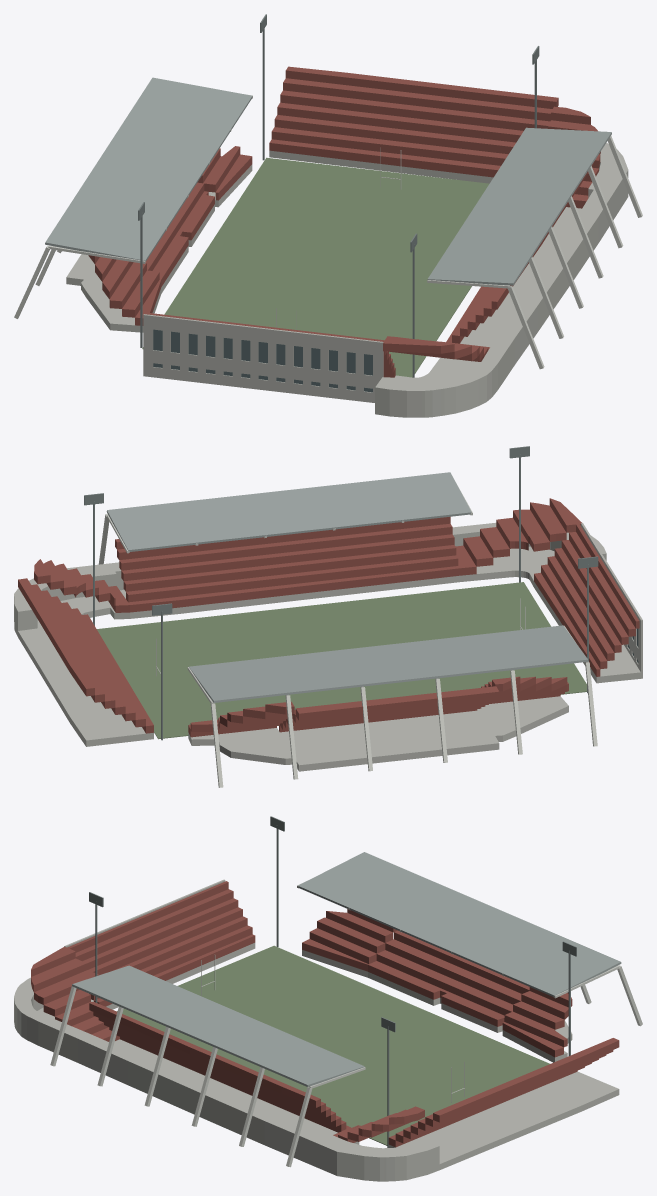
File: stade-mayol-toulon-far.glb
The picture shows the model from 3 angles, top to bottom: view 1: azimuth 30°, elevation 25°; view 2: azimuth 150°, elevation 25°; view 3: azimuth 270°, elevation 25°; orthographic projection. The views are drawn at different scales.
Parts seen in each view (by area): view 1: stade-mayol-toulon-0-field, stade-mayol-toulon-0-seats, stade-mayol-toulon-0-roof, stade-mayol-toulon-0-stone, stade-mayol-toulon-0-trim, stade-mayol-toulon-0-glass, stade-mayol-toulon-0-metal; view 2: stade-mayol-toulon-0-seats, stade-mayol-toulon-0-roof, stade-mayol-toulon-0-field, stade-mayol-toulon-0-stone, stade-mayol-toulon-0-trim, stade-mayol-toulon-0-metal; view 3: stade-mayol-toulon-0-seats, stade-mayol-toulon-0-field, stade-mayol-toulon-0-roof, stade-mayol-toulon-0-stone, stade-mayol-toulon-0-trim, stade-mayol-toulon-0-metal.
Part boxes in pixels (x1,y1,x2,y2): stade-mayol-toulon-0-field: [142, 157, 489, 377]; stade-mayol-toulon-0-seats: [88, 66, 600, 377]; stade-mayol-toulon-0-roof: [45, 77, 611, 285]; stade-mayol-toulon-0-stone: [66, 143, 628, 417]; stade-mayol-toulon-0-trim: [14, 95, 642, 369]; stade-mayol-toulon-0-glass: [153, 329, 372, 392]; stade-mayol-toulon-0-metal: [138, 14, 539, 377]; stade-mayol-toulon-0-seats: [18, 498, 639, 737]; stade-mayol-toulon-0-roof: [106, 472, 588, 702]; stade-mayol-toulon-0-field: [97, 582, 586, 739]; stade-mayol-toulon-0-stone: [14, 522, 642, 771]; stade-mayol-toulon-0-trim: [98, 476, 597, 787]; stade-mayol-toulon-0-metal: [84, 446, 598, 740]; stade-mayol-toulon-0-seats: [31, 881, 619, 1147]; stade-mayol-toulon-0-field: [117, 945, 549, 1145]; stade-mayol-toulon-0-roof: [72, 852, 621, 1086]; stade-mayol-toulon-0-stone: [14, 879, 619, 1181]; stade-mayol-toulon-0-trim: [50, 881, 642, 1167]; stade-mayol-toulon-0-metal: [89, 816, 576, 1147].
Size of the model in its own units: 187 by 42 by 188.
